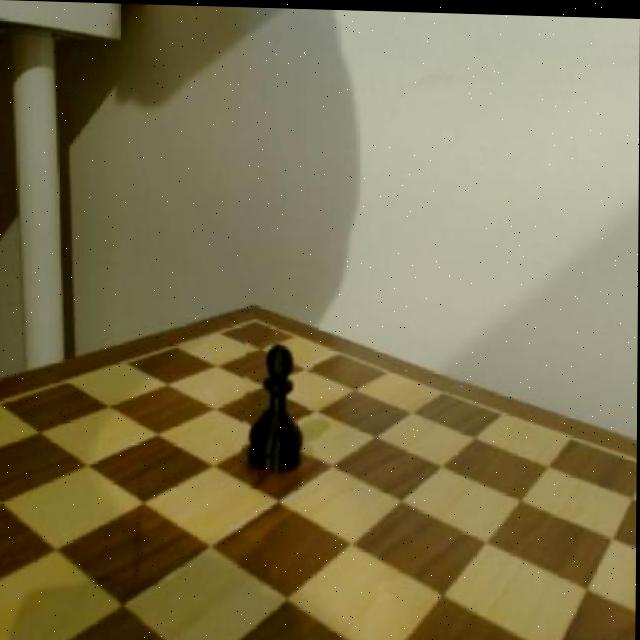black-knight: (244, 336, 314, 480)
